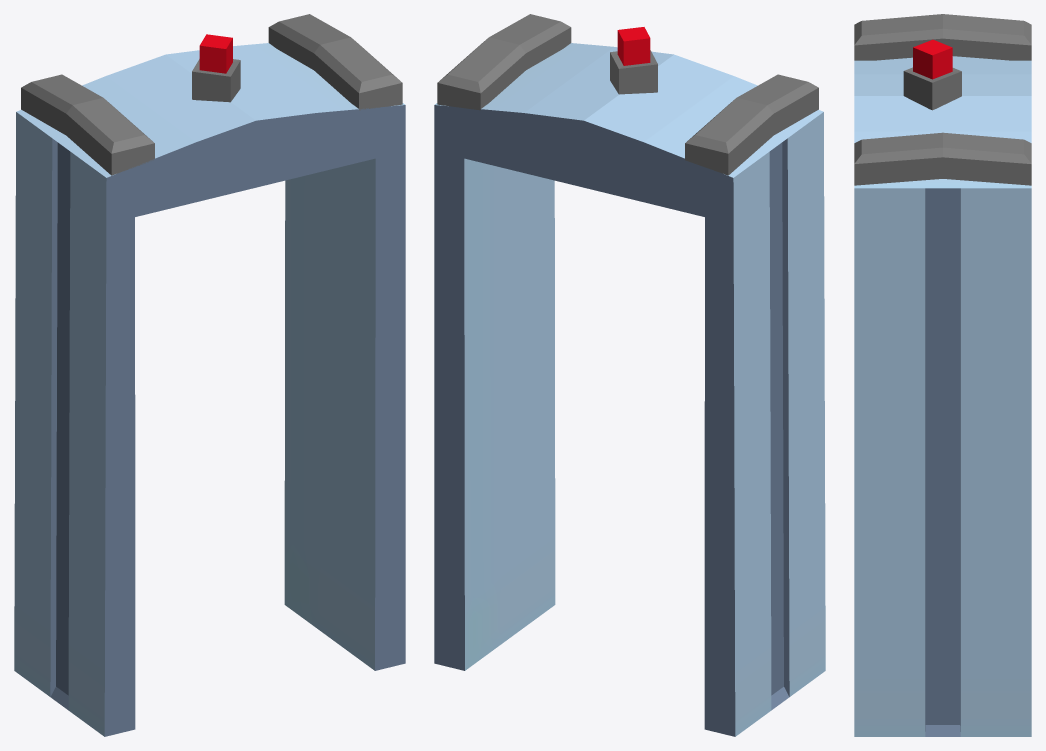
The model's file is SM_Control_Box.fbx.
3 views of the same model, side by side, from view 1: azimuth 30°, elevation 25°; view 2: azimuth 150°, elevation 25°; view 3: azimuth 270°, elevation 25° (orthographic).
Parts seen in each view (by area): view 1: SM_Control_Box; view 2: SM_Control_Box; view 3: SM_Control_Box.
Part boxes in pixels (x1,y1,x2,y2): SM_Control_Box: (14, 14, 405, 736); SM_Control_Box: (434, 14, 825, 736); SM_Control_Box: (854, 14, 1031, 736).
Bounding box in the file's own units: 126 × 251 × 65.48.
